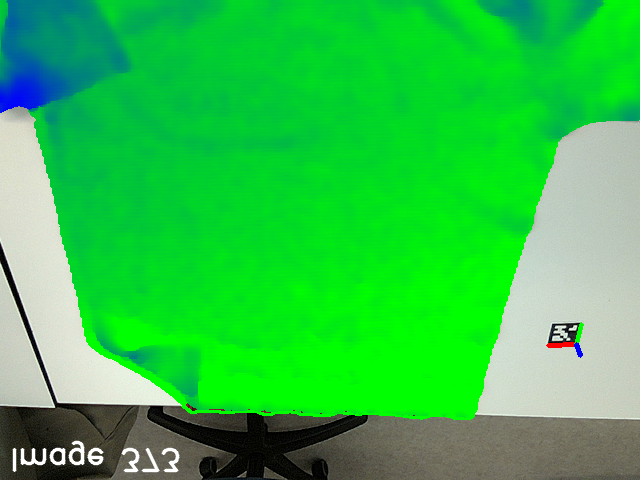V: (87, 29, 147, 91)
